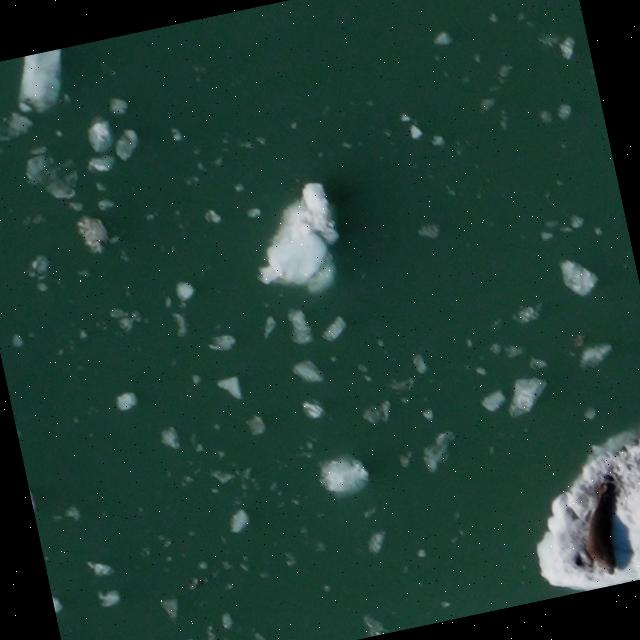seal: (568, 469, 640, 583)
